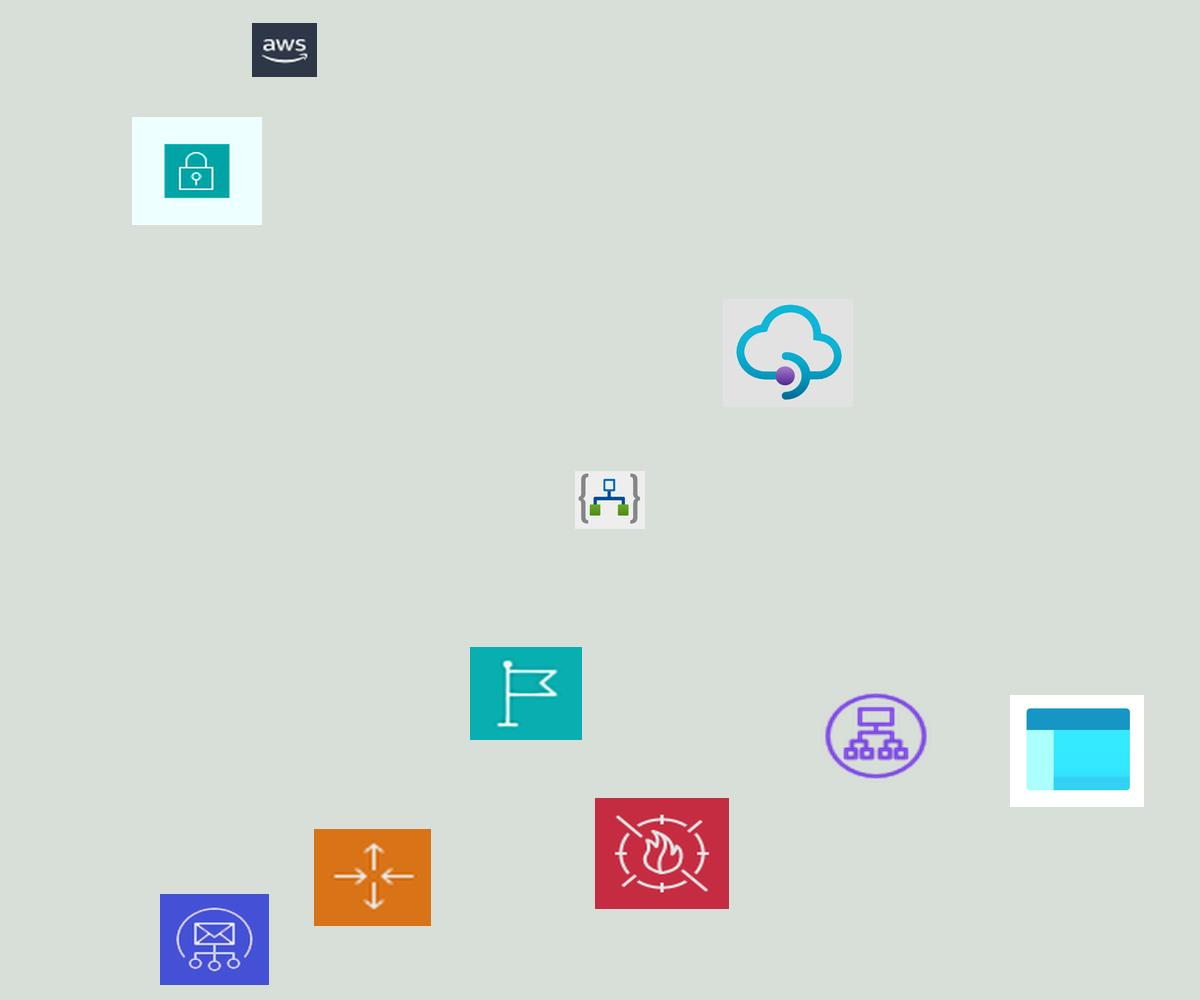AWS-Cloud-logo: (252, 23, 317, 77)
AWS-Private-subnet: (132, 117, 262, 225)
AWS-Region: (470, 647, 582, 740)
AWS-Res_Elastic-Load-Balancing_Application-Load-Balancer: (821, 690, 931, 782)
AWS-Scaling-group: (314, 829, 431, 926)
AWS-Simple-Email-Service: (160, 894, 269, 985)
AWS-WAF: (595, 798, 729, 909)
Azure_api_gateway: (723, 299, 853, 407)
Azure_integration-204-Logic-Apps: (575, 471, 645, 529)
Azure_management-portal: (1010, 695, 1144, 807)
